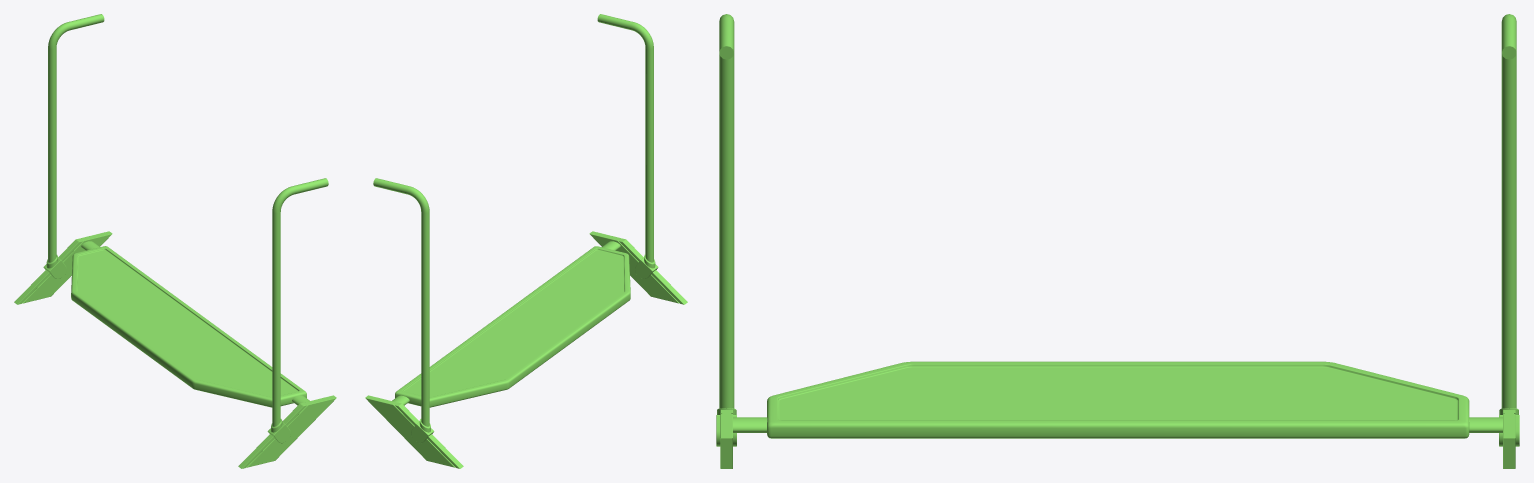
The model's file is Stairs.fbx.
3 renders of one model, left to right at view 1: azimuth 30°, elevation 25°; view 2: azimuth 150°, elevation 25°; view 3: azimuth 270°, elevation 25°, orthographic. The views are drawn at different scales.
Parts seen in each view (by area): view 1: SM_Stairs; view 2: SM_Stairs; view 3: SM_Stairs.
Part boxes in pixels (x1,y1,x2,y2): SM_Stairs: [14, 14, 336, 468]; SM_Stairs: [365, 14, 687, 468]; SM_Stairs: [716, 14, 1519, 468].
Bounding box in the file's own units: 0.3856 × 1.04 × 1.61.
